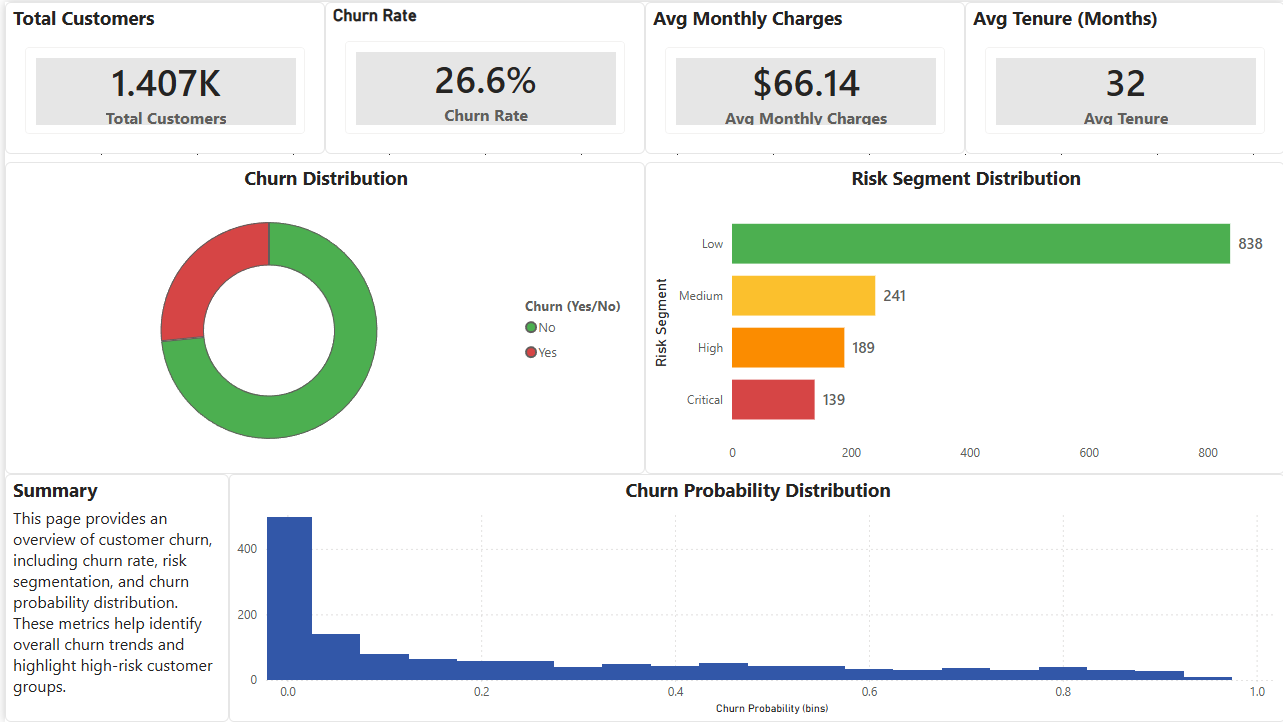

The dashboard page shown, as its layout file describes it:
{"tool":"powerbi","page":{"name":"Churn Overview","canvas":[1280,720],"ordinal":0},"visuals":[{"type":"cardVisual","title":"Churn Rate","fields":{"Data":["_Measures.Churn Rate"]},"box":[320,0,320,152],"z":0},{"type":"cardVisual","title":"Total Customers","fields":{"Data":["_Measures.Total Customers"]},"box":[0,0,320,152],"z":1000},{"type":"cardVisual","title":"Avg Monthly Charges","fields":{"Data":["_Measures.Avg Monthly Charges"]},"box":[640,0,320,152],"z":2000},{"type":"cardVisual","title":"Avg Tenure (Months)","fields":{"Data":["_Measures.Avg Tenure"]},"box":[960,0,320,152],"z":3000},{"type":"donutChart","title":"Churn Distribution","fields":{"Y":["_Measures.Total Customers"],"Category":["Telco Churn Dashboard.Churn (Yes/No)"]},"box":[0,160,640,312],"z":4000},{"type":"clusteredBarChart","title":"Risk Segment Distribution","fields":{"Category":["Telco Churn Dashboard.RiskSegment"],"Y":["_Measures.Total Customers"]},"box":[640,160,640,312],"z":5000},{"type":"clusteredColumnChart","title":"Churn Probability Distribution","fields":{"Category":["Telco Churn Dashboard.Churn Probability (bins)"],"Y":["CountNonNull(Telco Churn Dashboard.customerID)"]},"box":[224,472,1056,248],"z":6000},{"type":"textbox","title":"Summary","box":[0,472,224,248],"z":7000}]}

Visuals, with their boxes in screenshot pixels (x1, y1, x2, y2), scaled from the page's 1280x720 canvas onto the 1283x722 screenshot:
"Churn Rate" cardVisual: (x1=321, y1=0, x2=642, y2=152)
"Total Customers" cardVisual: (x1=0, y1=0, x2=321, y2=152)
"Avg Monthly Charges" cardVisual: (x1=642, y1=0, x2=962, y2=152)
"Avg Tenure (Months)" cardVisual: (x1=962, y1=0, x2=1282, y2=152)
"Churn Distribution" donutChart: (x1=0, y1=160, x2=642, y2=473)
"Risk Segment Distribution" clusteredBarChart: (x1=642, y1=160, x2=1282, y2=473)
"Churn Probability Distribution" clusteredColumnChart: (x1=225, y1=473, x2=1282, y2=721)
"Summary" textbox: (x1=0, y1=473, x2=225, y2=721)
